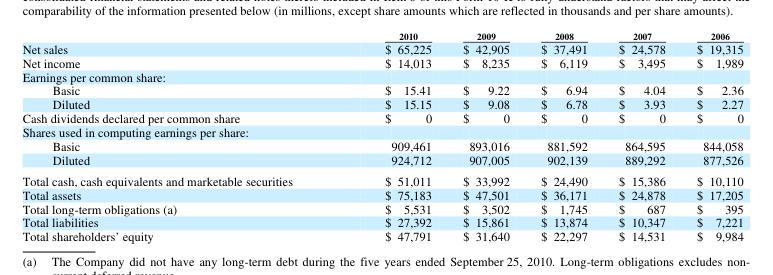table: (21, 28, 742, 243)
table column: (21, 28, 338, 243), (338, 28, 446, 243), (446, 28, 524, 243), (524, 28, 602, 243), (602, 28, 680, 243), (680, 28, 742, 243)
table column header: (21, 28, 742, 40)
table projected row header: (21, 68, 742, 82), (21, 124, 742, 138)
table row: (21, 151, 742, 169), (21, 169, 742, 187), (21, 40, 742, 55), (21, 228, 742, 243), (21, 68, 742, 82), (21, 82, 742, 96), (21, 96, 742, 110), (21, 110, 742, 124), (21, 124, 742, 138), (21, 200, 742, 214), (21, 214, 742, 228), (21, 55, 742, 68), (21, 138, 742, 151), (21, 187, 742, 200), (21, 28, 742, 40)
